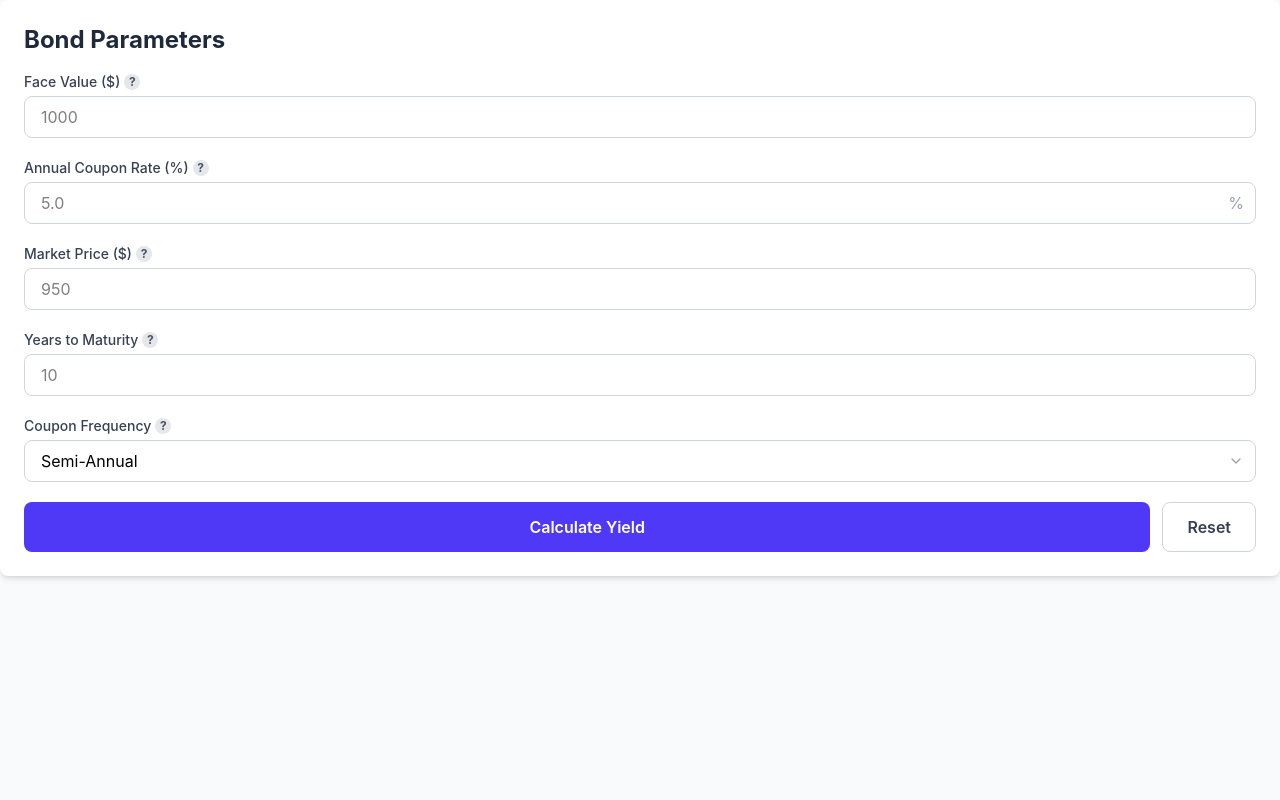
it: BondCalculatorForm › clears validation errors on reset
The image size is (1280, 800).
// Trigger validation errors
Click the button "Calculate Yield" at point(587, 527), box [24, 502, 1150, 552]
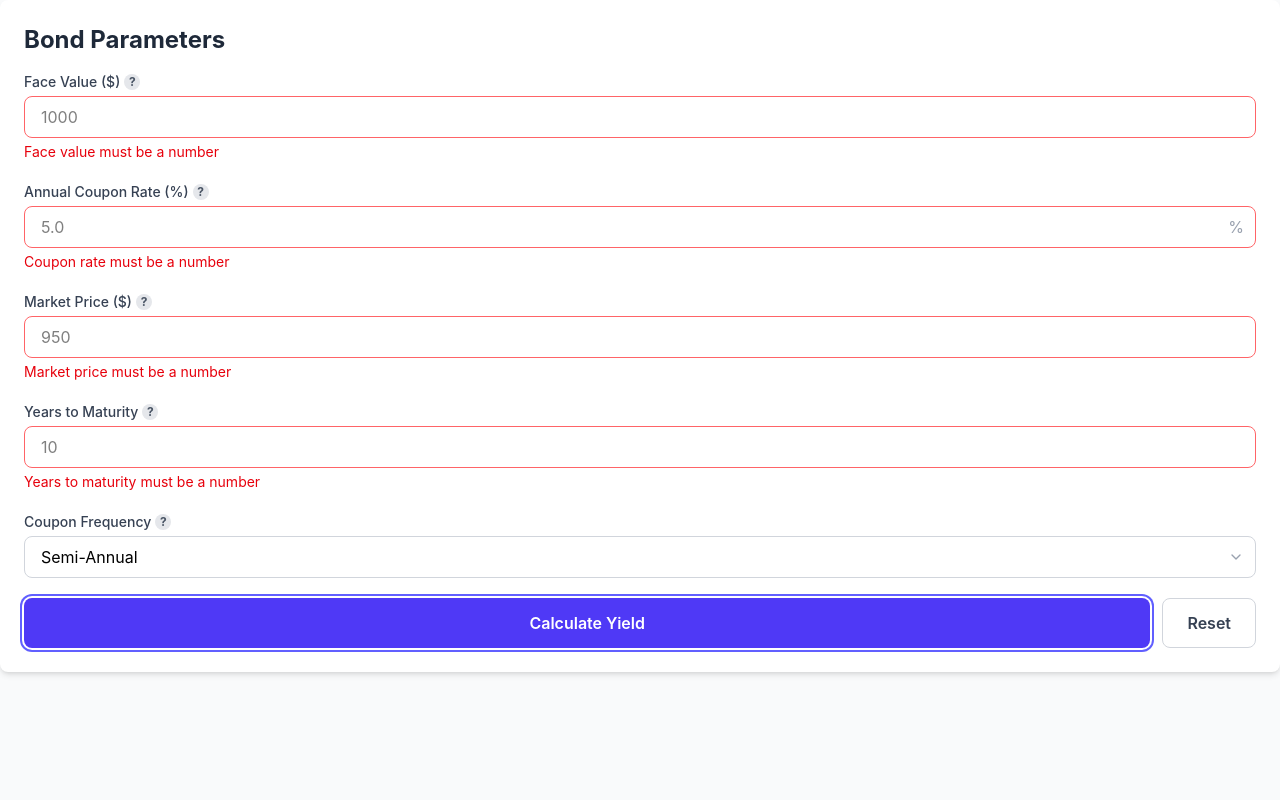
Result: the text "Face value must be a number" is shown at [24, 143, 219, 160]
// Reset the form
Click the button "Reset" at point(1209, 623), box [1162, 598, 1256, 648]
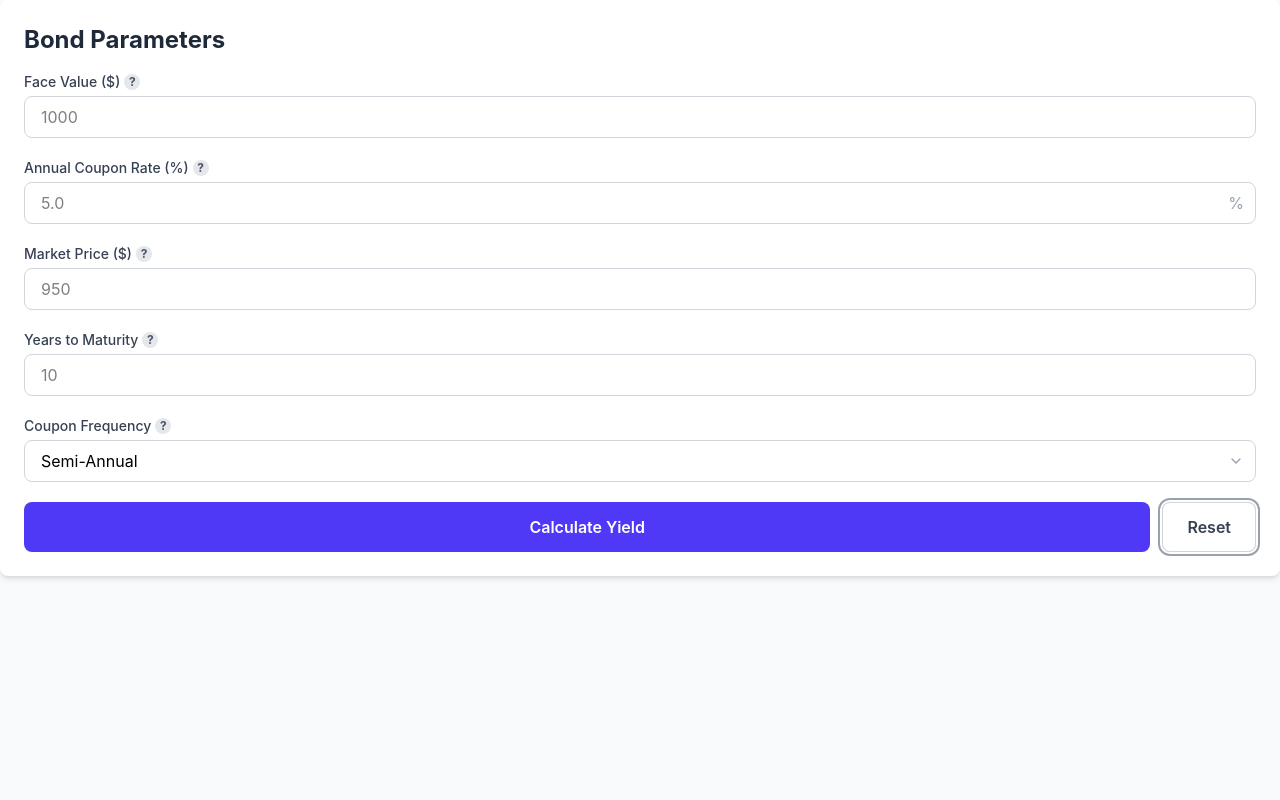
Result: the text "Face value must be a number" is not shown
